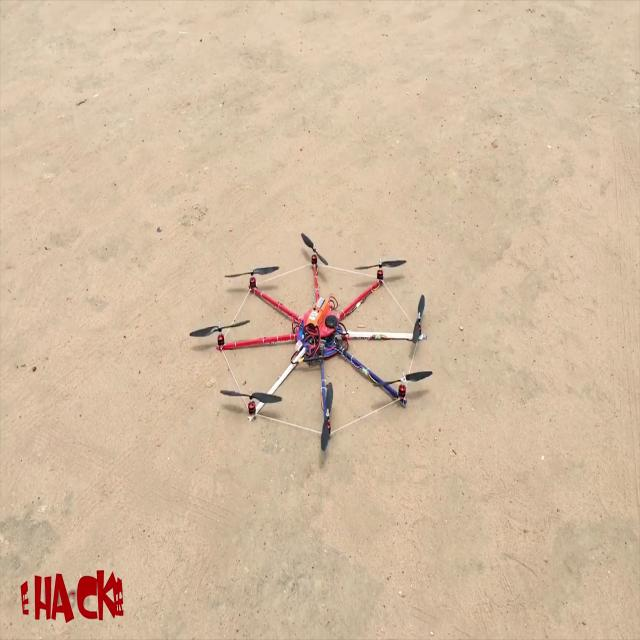drone: (188, 232, 438, 451)
